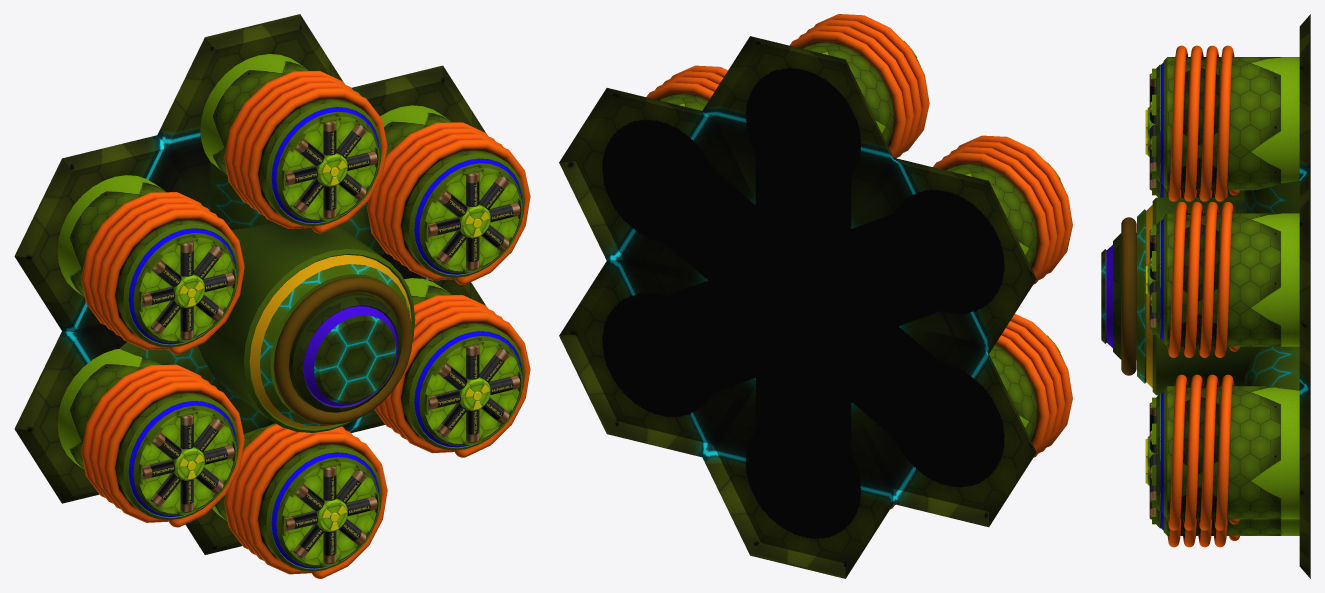
Rendered from power.fbx.
3 renders of one model, left to right at view 1: azimuth 30°, elevation 25°; view 2: azimuth 150°, elevation 25°; view 3: azimuth 270°, elevation 25°, orthographic.
Parts seen in each view (by area): view 1: Circle.026, Circle.024, Circle.020, Circle.022, Circle.019, Circle.021, Circle.025, Circle.018, Circle.023, Circle.029, Circle.031, Circle.027 (+3 smaller); view 2: Circle.026, Circle.020, Circle.022, Circle.019, Circle.021; view 3: Circle.021, Circle.018, Circle.022, Circle.024, Circle.026, Circle.023, Circle.025, Circle.031, Circle.030, Circle.029, Circle.020.
Part boxes in pixels (left/top/right/bottom): Circle.026: left=14, top=14, right=485, bottom=554; Circle.024: left=198, top=222, right=415, bottom=432; Circle.020: left=57, top=175, right=244, bottom=354; Circle.022: left=200, top=54, right=387, bottom=233; Circle.019: left=57, top=349, right=244, bottom=527; Circle.021: left=366, top=105, right=530, bottom=284; Circle.025: left=212, top=423, right=387, bottom=578; Circle.018: left=374, top=278, right=530, bottom=457; Circle.023: left=119, top=162, right=384, bottom=434; Circle.029: left=285, top=120, right=377, bottom=217; Circle.031: left=428, top=344, right=520, bottom=442; Circle.027: left=142, top=414, right=234, bottom=511; Circle.026: left=559, top=36, right=1036, bottom=578; Circle.020: left=933, top=135, right=1072, bottom=284; Circle.022: left=789, top=14, right=929, bottom=157; Circle.019: left=989, top=314, right=1072, bottom=457; Circle.021: left=646, top=65, right=727, bottom=110; Circle.021: left=1145, top=201, right=1299, bottom=357; Circle.018: left=1145, top=374, right=1299, bottom=530; Circle.022: left=1145, top=45, right=1299, bottom=201; Circle.024: left=1101, top=197, right=1262, bottom=395; Circle.026: left=1299, top=14, right=1310, bottom=578; Circle.023: left=1244, top=181, right=1299, bottom=390; Circle.025: left=1145, top=467, right=1299, bottom=547; Circle.031: left=1149, top=402, right=1156, bottom=502; Circle.030: left=1149, top=229, right=1156, bottom=329; Circle.029: left=1149, top=73, right=1156, bottom=173; Circle.020: left=1145, top=138, right=1244, bottom=197.
Size of the model in its own units: 5 by 5.2 by 1.9.
